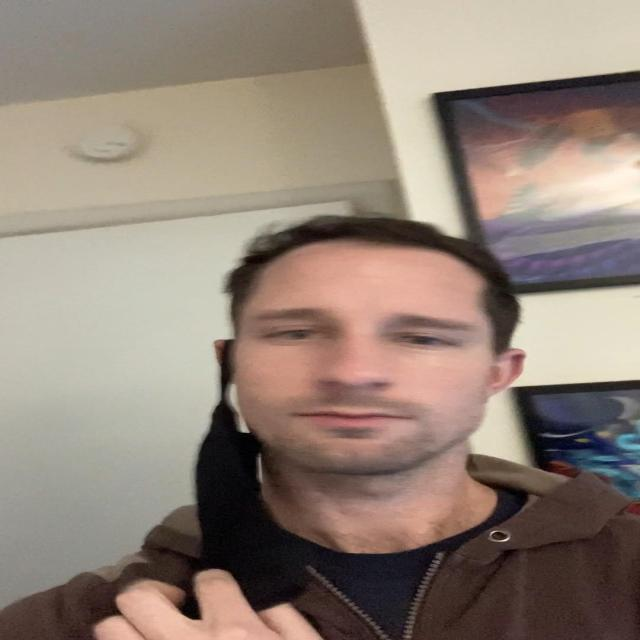no-helmet: (209, 225, 525, 504)
